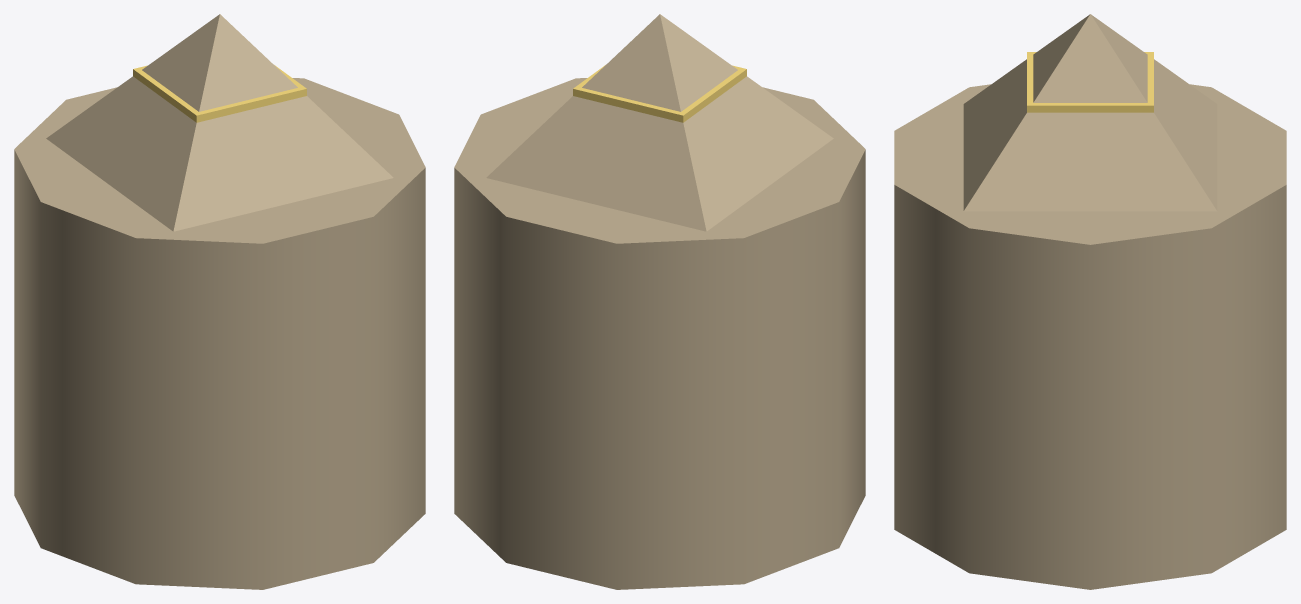
The model's file is sack.glb.
3 renders of one model, left to right at view 1: azimuth 30°, elevation 25°; view 2: azimuth 150°, elevation 25°; view 3: azimuth 270°, elevation 25°, orthographic.
Visible parts, largest first — view 1: Sack; view 2: Sack; view 3: Sack.
Part boxes in pixels (box(x1,y1,x2,y2)): Sack: box(14, 14, 425, 589); Sack: box(454, 14, 865, 589); Sack: box(894, 14, 1286, 589).
Size of the model in its own units: 0.26 by 0.34 by 0.2473.
